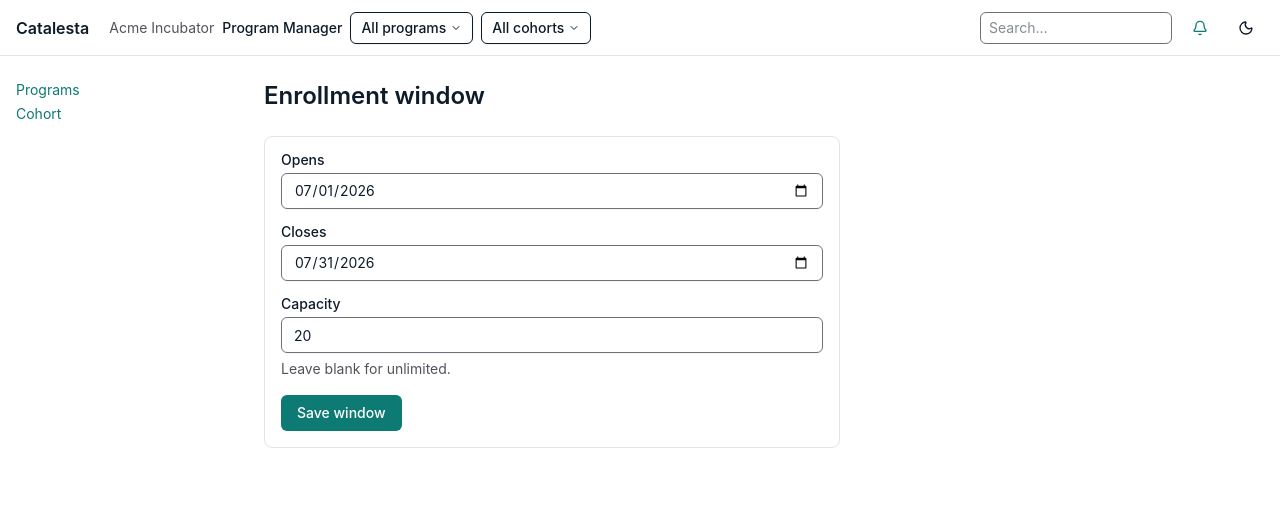
Test: rejects a close date that is not after the open date
The width and height of the screenshot is (1280, 527).
Type "2026-06-01" into the date field labelled "Closes" at (552, 263), box [281,245,823,281]
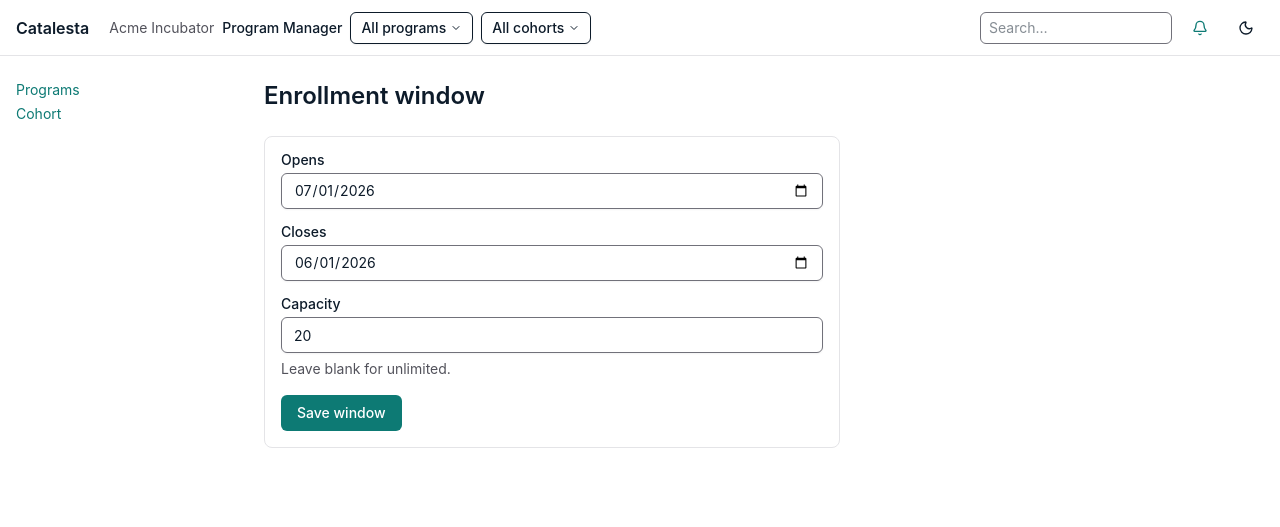
Click the button "Save window" at (341, 413), box [281,395,402,431]
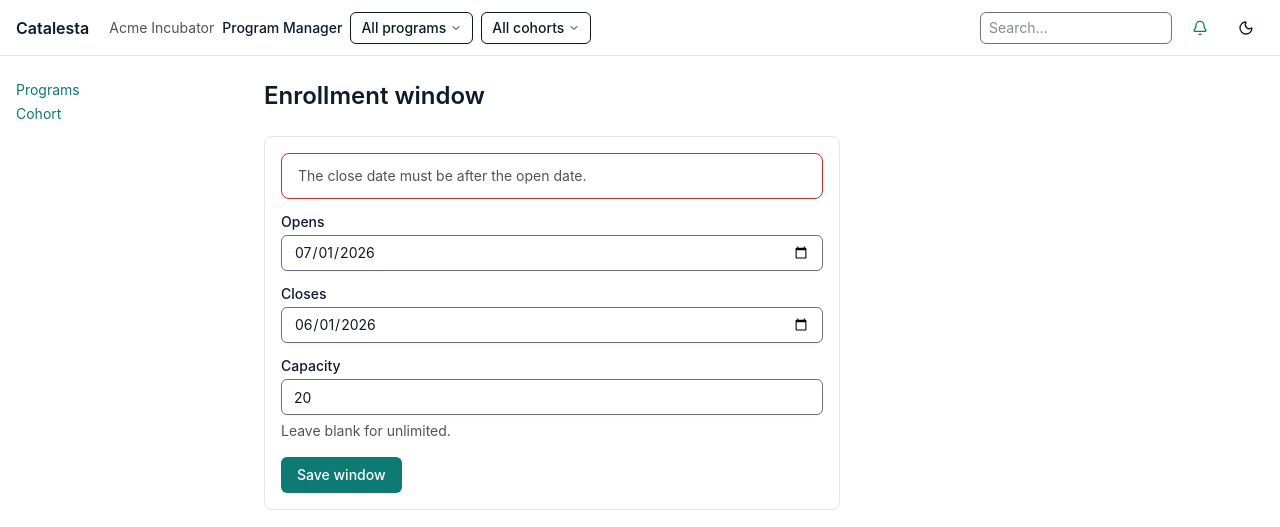
Now the text "The close date must be after the open date." is shown, box [298,167,586,184]
